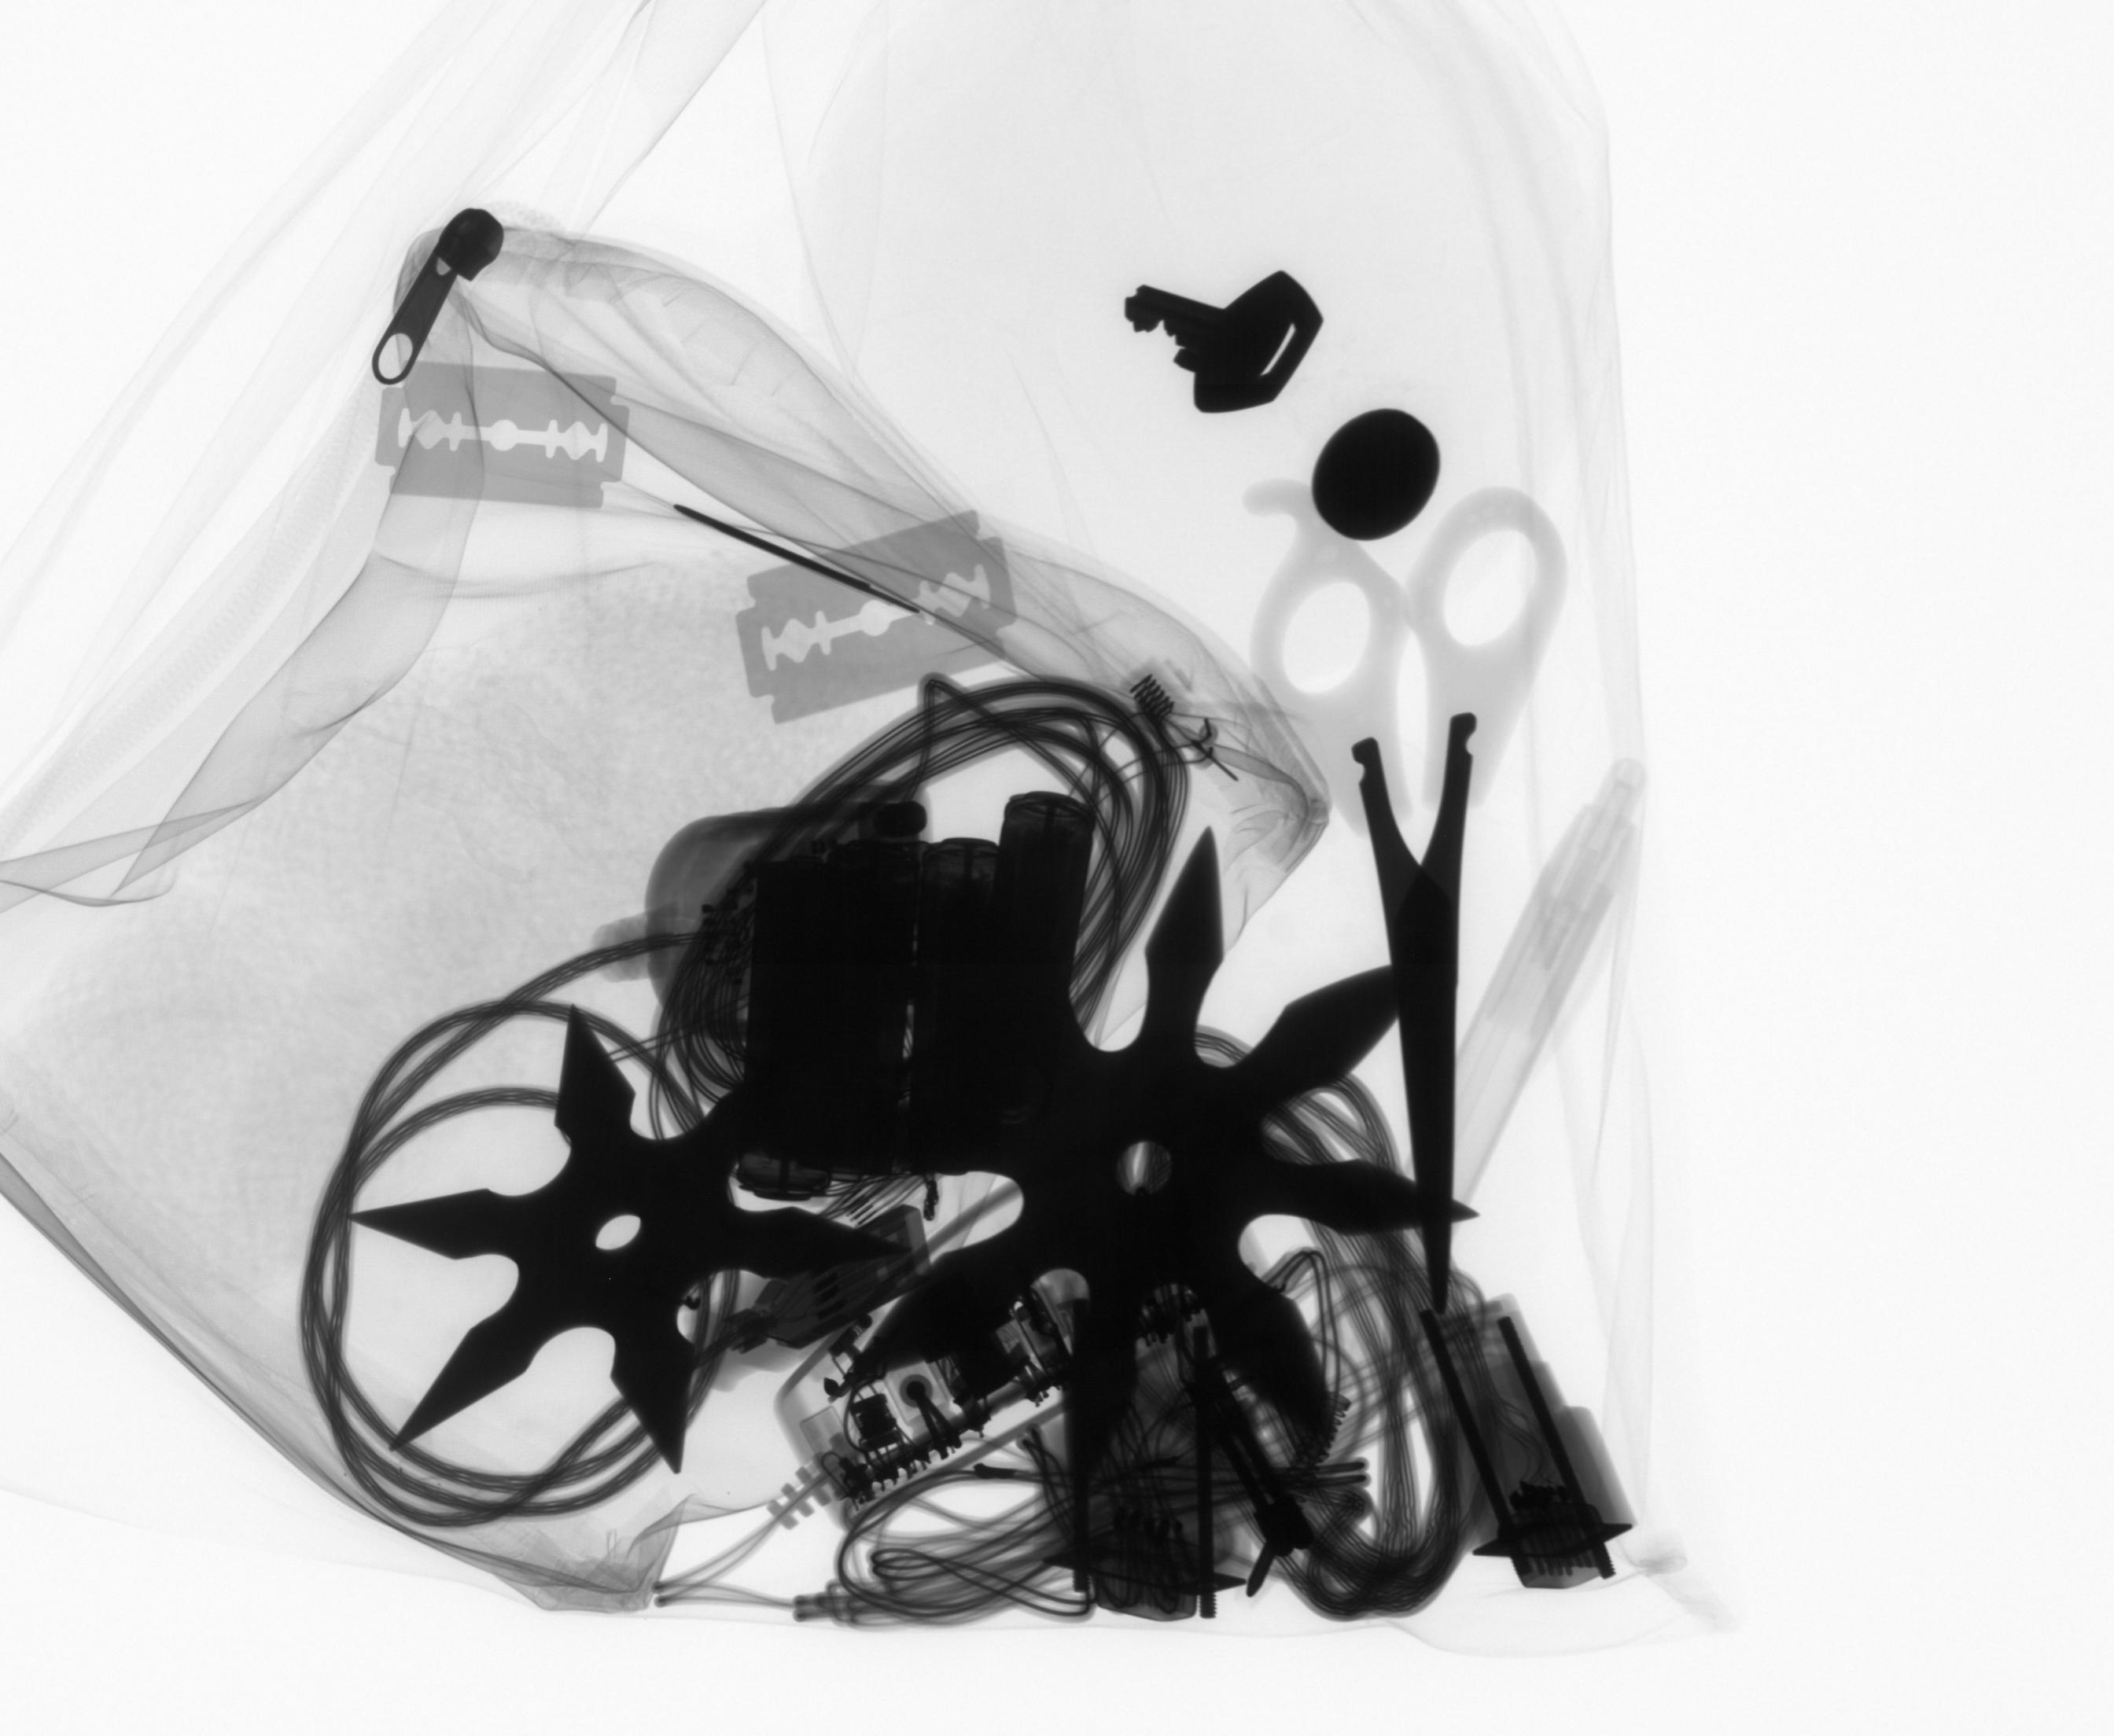RazorBlade: (729, 502, 1027, 734), (367, 353, 641, 520)
Shuriken: (776, 820, 1489, 1520), (332, 999, 913, 1494)
